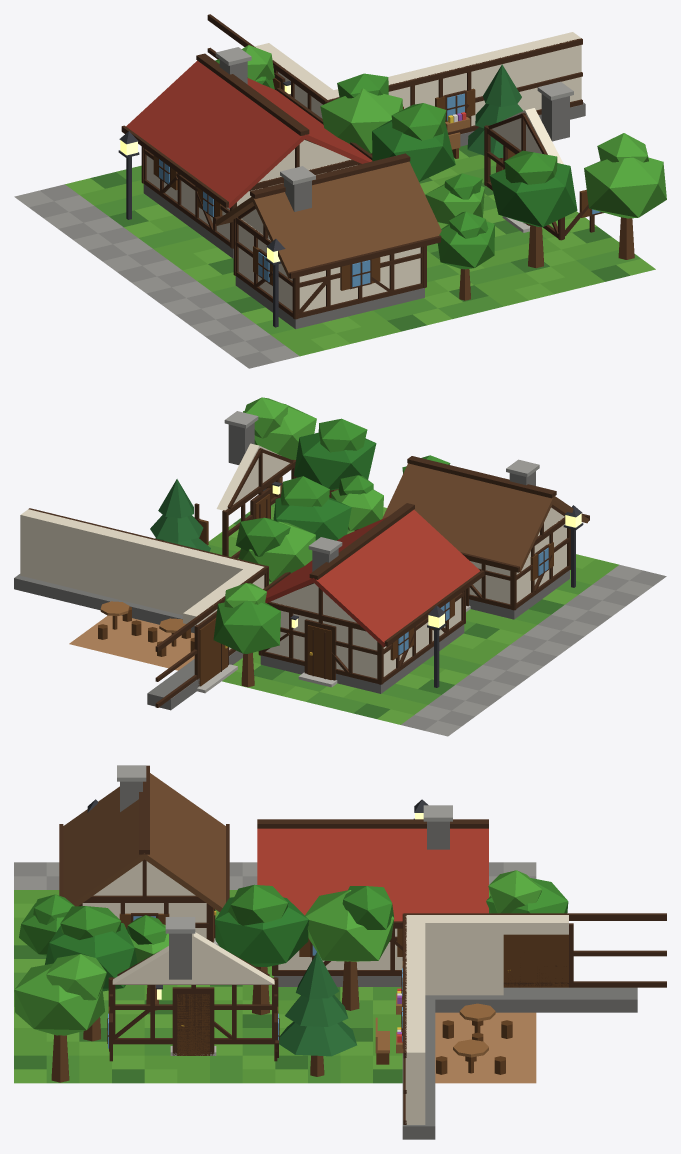
File: chunk_2_3.glb
3 views of the same model, one above another, from view 1: azimuth 30°, elevation 25°; view 2: azimuth 150°, elevation 25°; view 3: azimuth 270°, elevation 25° (orthographic). The views are drawn at different scales.
Parts seen in each view (by area): view 1: chunk_2_3; view 2: chunk_2_3; view 3: chunk_2_3.
Boxes of the visible parts, x1,y1,x2,y2 form: chunk_2_3: [14, 14, 666, 368]; chunk_2_3: [14, 397, 666, 736]; chunk_2_3: [14, 765, 666, 1139].
Bounding box in the file's own units: 20.1 × 4.94 × 20.
